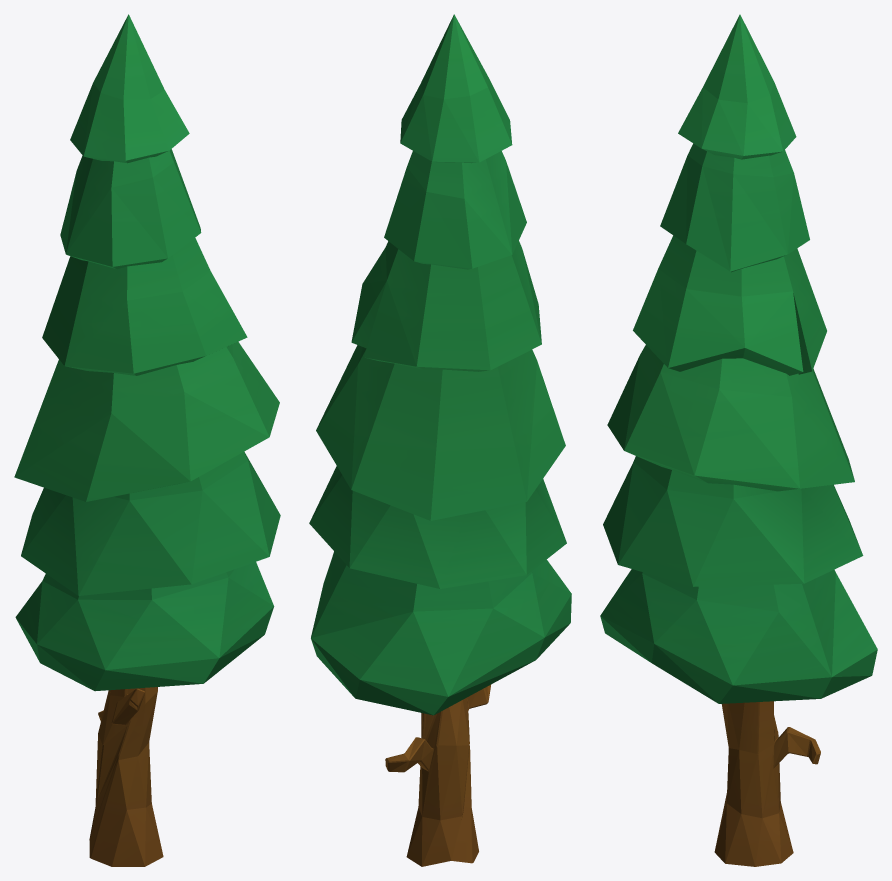
Rendered from tree_spire.glb.
The picture shows the model from 3 angles, left to right: view 1: azimuth 30°, elevation 25°; view 2: azimuth 150°, elevation 25°; view 3: azimuth 270°, elevation 25°; orthographic projection.
Visible parts, largest first — view 1: Tree_8_AA; view 2: Tree_8_AA; view 3: Tree_8_AA.
Boxes of the visible parts, box(x1,y1,x2,y2) form: Tree_8_AA: box(14, 14, 280, 866); Tree_8_AA: box(309, 14, 571, 866); Tree_8_AA: box(600, 14, 877, 866).
Bounding box in the file's own units: 1.15 × 4.05 × 1.22.
Materials: 1 (1 with a texture image).
